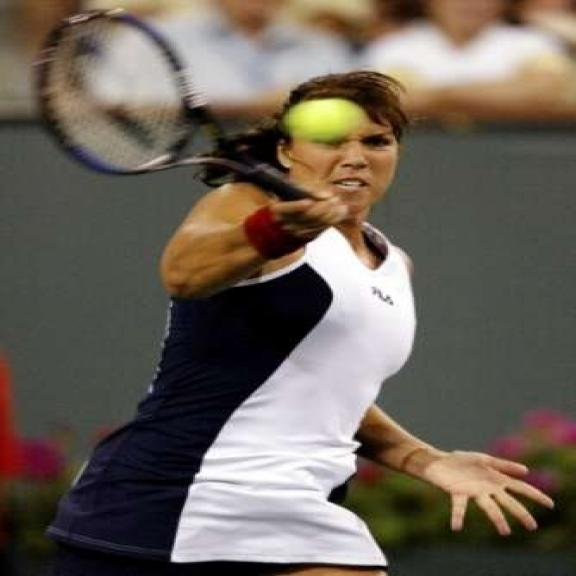face: (283, 100, 402, 218)
